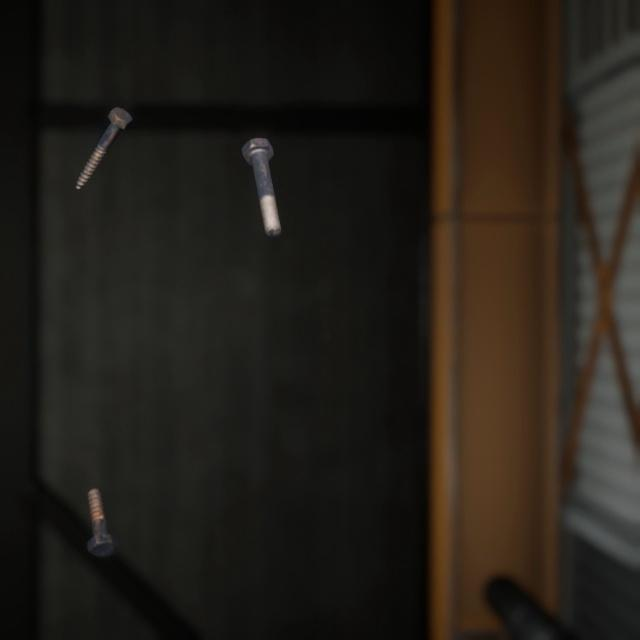bolt: (70, 89, 136, 180), (237, 118, 285, 226), (83, 462, 122, 539)
